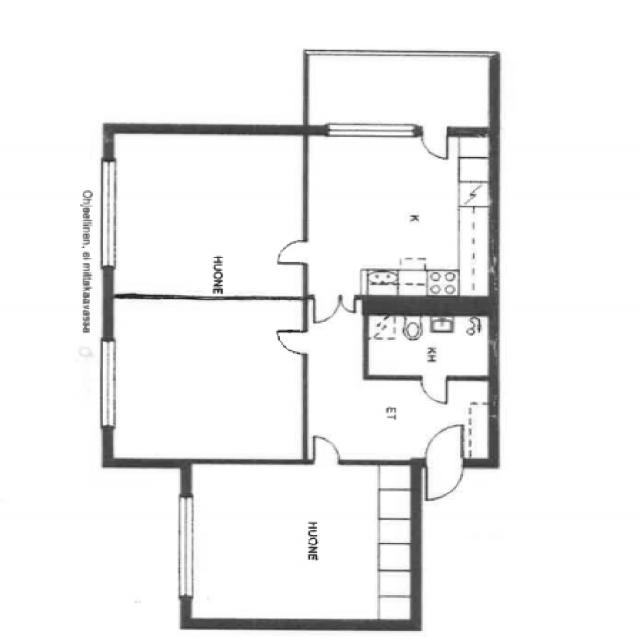door: (419, 421, 469, 493), (416, 122, 453, 164), (424, 467, 466, 502), (270, 234, 314, 267), (417, 374, 451, 409), (271, 326, 310, 356), (308, 434, 343, 466), (310, 292, 342, 326), (331, 291, 358, 321)
window: (89, 152, 128, 277), (170, 488, 202, 606), (90, 333, 124, 436), (319, 115, 419, 144)
zone: (186, 462, 418, 622), (105, 296, 308, 463), (107, 130, 311, 296), (304, 132, 490, 300), (303, 375, 489, 461), (363, 309, 495, 379)
